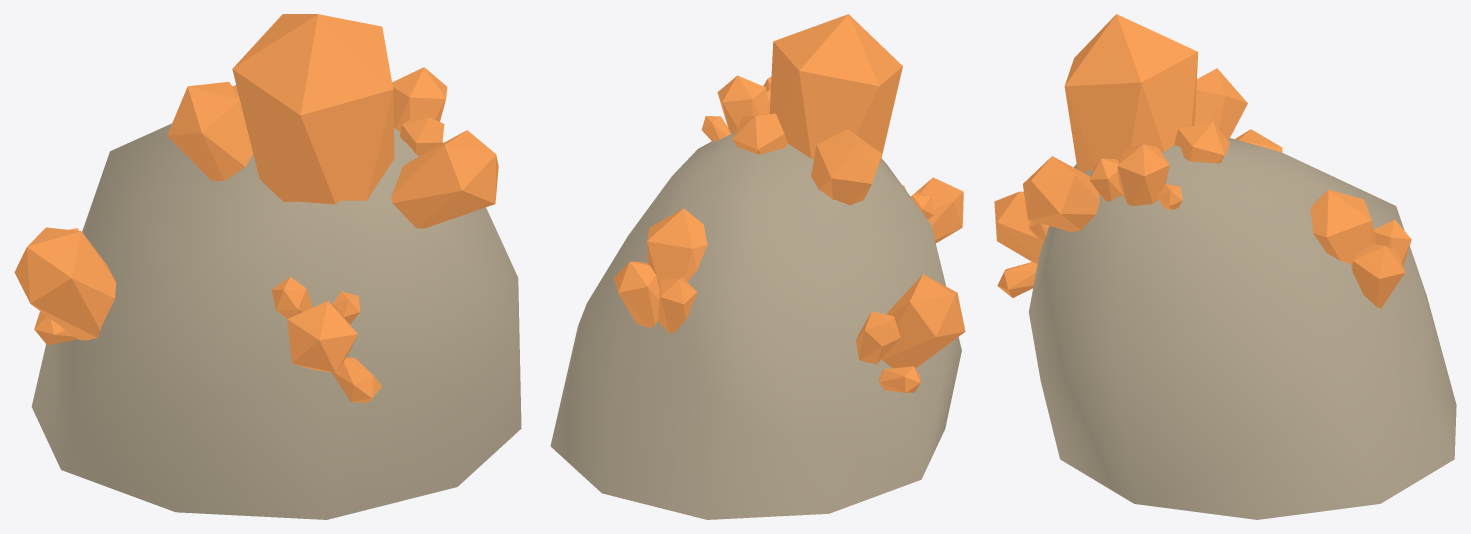
File: Stone_Gather_Indicator_Full.glb
The picture shows the model from 3 angles, left to right: view 1: azimuth 30°, elevation 25°; view 2: azimuth 150°, elevation 25°; view 3: azimuth 270°, elevation 25°; orthographic projection. The views are drawn at different scales.
Parts seen in each view (by area): view 1: Stone, Ore.013, Ore.004, Ore.016, Ore.014, Ore, Ore.002, Ore.012, Ore.008, Ore.010, Ore.006, Ore.011; view 2: Stone, Ore.013, Ore.004, Ore.014, Ore.003, Ore.001, Ore.002, Ore, Ore.015, Ore.005, Ore.007, Ore.006 (+1 smaller); view 3: Stone, Ore.013, Ore.016, Ore.003, Ore.002, Ore.014, Ore.001, Ore, Ore.015, Ore.008, Ore.012, Ore.007.
Part boxes in pixels (x1,y1,x2,y2): Stone: (31, 94, 521, 519); Ore.013: (232, 14, 394, 204); Ore.004: (14, 227, 116, 340); Ore.016: (391, 130, 498, 228); Ore.014: (167, 81, 253, 180); Ore: (287, 301, 357, 372); Ore.002: (392, 67, 447, 131); Ore.012: (332, 357, 381, 402); Ore.008: (400, 113, 444, 156); Ore.010: (271, 277, 312, 318); Ore.006: (34, 311, 77, 345); Ore.011: (332, 291, 360, 324); Stone: (550, 132, 961, 519); Ore.013: (769, 14, 902, 162); Ore.004: (882, 274, 965, 368); Ore.014: (811, 129, 881, 205); Ore.003: (647, 208, 707, 288); Ore.001: (614, 261, 659, 328); Ore.002: (717, 75, 769, 133); Ore: (910, 177, 963, 243); Ore.015: (732, 113, 787, 154); Ore.005: (856, 311, 900, 364); Ore.007: (658, 277, 697, 333); Ore.006: (879, 366, 920, 392); Stone: (1028, 138, 1456, 519); Ore.013: (1064, 14, 1198, 171); Ore.016: (1023, 156, 1099, 232); Ore.003: (1310, 189, 1376, 264); Ore.002: (1117, 144, 1169, 206); Ore.014: (1194, 68, 1247, 138); Ore.001: (1351, 244, 1405, 308); Ore: (994, 191, 1042, 263); Ore.015: (1174, 122, 1230, 163); Ore.008: (1089, 158, 1122, 201); Ore.012: (997, 262, 1037, 297); Ore.007: (1374, 219, 1411, 266).
Size of the model in its own units: 0.7412 by 0.7161 by 0.747.
Materials: 1 (1 with a texture image).
